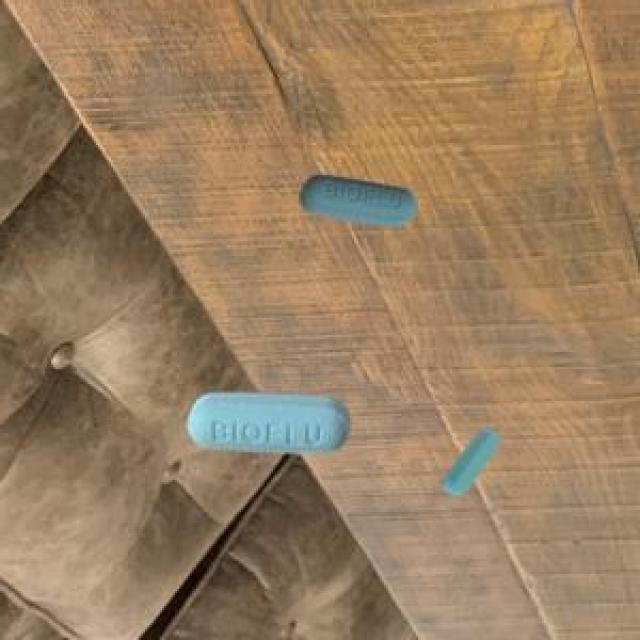Bioflu: (170, 356, 370, 480), (293, 154, 422, 242), (421, 413, 517, 507)
